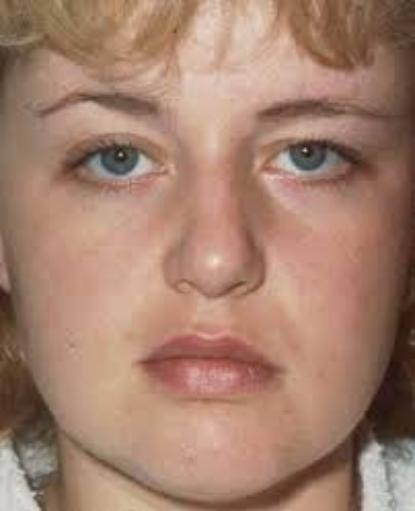left_eye: (260, 137, 367, 185)
left_lip_corner: (260, 355, 296, 383)
right_eye: (64, 141, 169, 189)
right_lip_corner: (128, 349, 161, 377)
